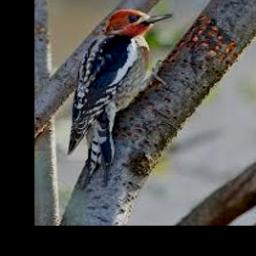Woodpecker: (68, 9, 174, 189)
